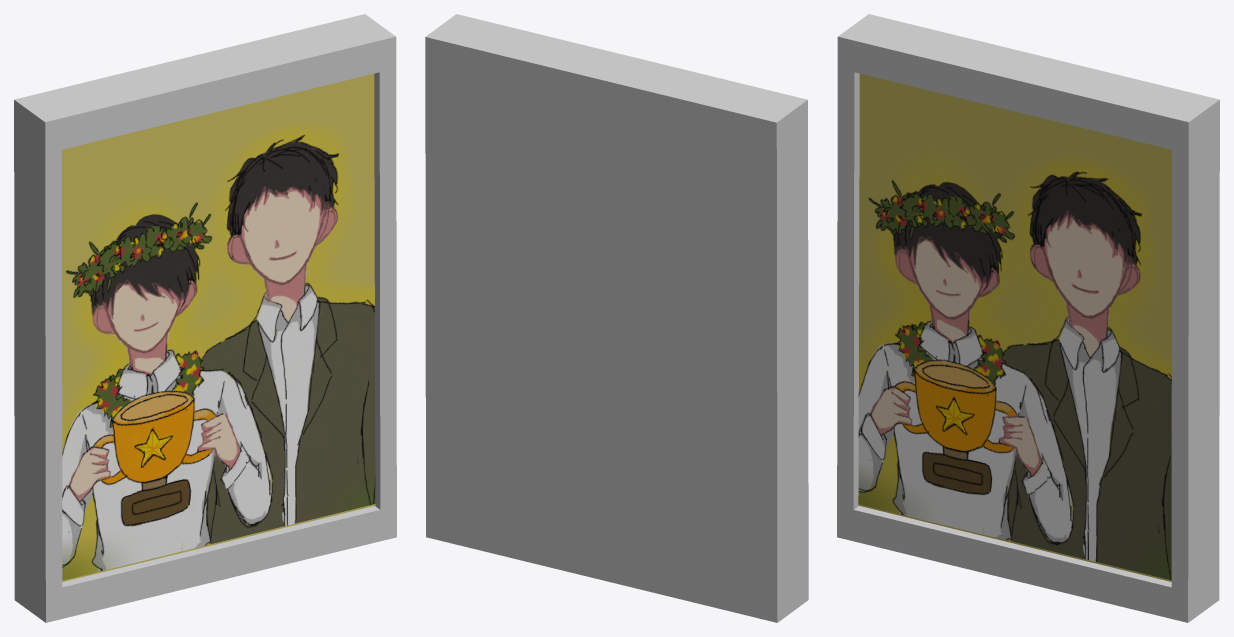
Rendered from Frame Photo Portrait.fbx.
The picture shows the model from 3 angles, left to right: view 1: azimuth 30°, elevation 25°; view 2: azimuth 150°, elevation 25°; view 3: azimuth 330°, elevation 25°; orthographic projection.
Parts seen in each view (by area): view 1: Cube.004, Cube.005; view 2: Cube.005; view 3: Cube.004, Cube.005.
Boxes of the visible parts, x1=… form: Cube.004: x1=62, y1=73, x2=375, y2=581; Cube.005: x1=14, y1=14, x2=396, y2=622; Cube.005: x1=425, y1=14, x2=808, y2=622; Cube.004: x1=858, y1=73, x2=1171, y2=581; Cube.005: x1=837, y1=14, x2=1219, y2=622.
Bounding box in the file's own units: 107 × 146 × 16.79.
